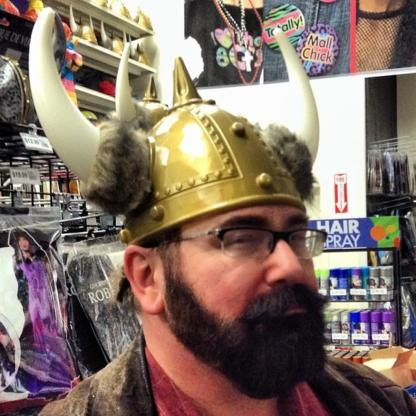Helmet: (90, 92, 298, 305)
